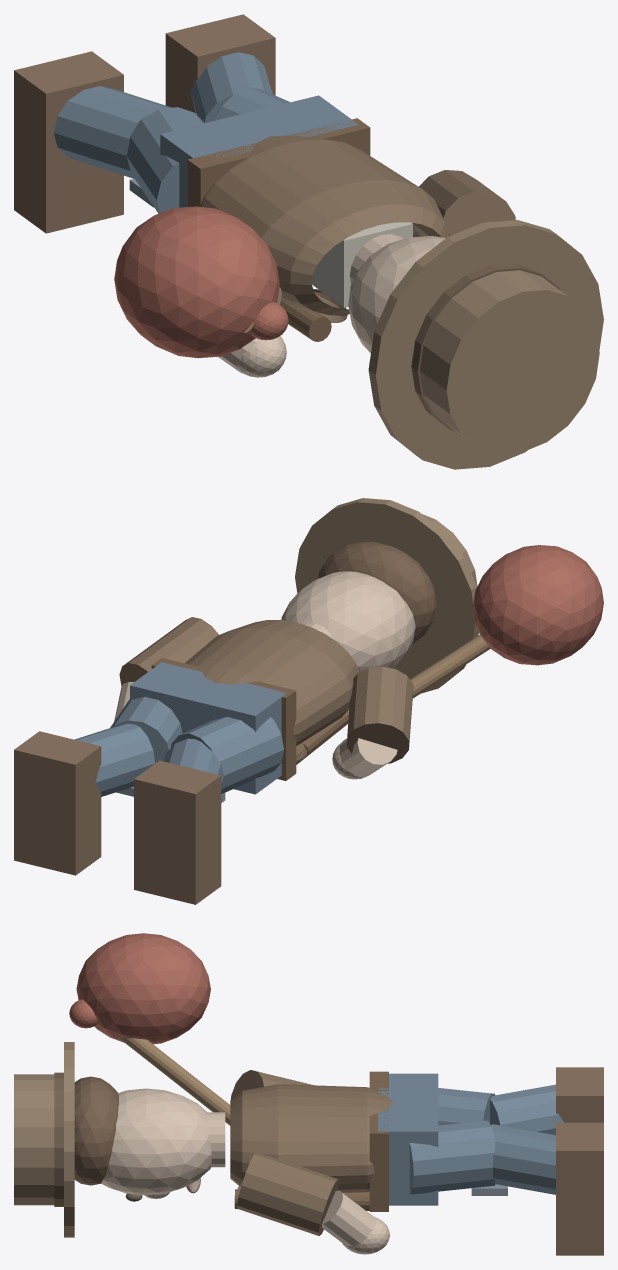
The model's file is George_walk_08.glb.
3 renders of one model, top to bottom at view 1: azimuth 30°, elevation 25°; view 2: azimuth 150°, elevation 25°; view 3: azimuth 270°, elevation 25°, orthographic. The views are drawn at different scales.
Visible parts, largest first — view 1: hat_crown, worn_cream_work_shirt, tied_cloth_bindle, weathered_felt_hat_brim, work_boot_-1, faded_blue_denim_waist, denim_calf_-1, work_boot_1, fair_skin_face, denim_thigh_-1, rolled_shirt_sleeve_1, brown_leather_belt (+7 smaller); view 2: tied_cloth_bindle, weathered_felt_hat_brim, work_boot_-1, work_boot_1, worn_cream_work_shirt, fair_skin_face, faded_blue_denim_waist, rolled_shirt_sleeve_-1, short_brown_hair, denim_thigh_-1, denim_calf_1, rolled_shirt_sleeve_1 (+6 smaller); view 3: worn_cream_work_shirt, tied_cloth_bindle, fair_skin_face, work_boot_1, faded_blue_denim_waist, rolled_shirt_sleeve_1, hat_crown, denim_thigh_1, short_brown_hair, denim_calf_1, denim_calf_-1, work_boot_-1 (+10 smaller).
Part boxes in pixels (x1,y1,x2,y2): hat_crown: (419,270,599,453); worn_cream_work_shirt: (200,135,450,322); tied_cloth_bindle: (114,206,279,358); weathered_felt_hat_brim: (368,220,603,469); work_boot_-1: (14,51,123,233); faded_blue_denim_waist: (160,95,358,207); denim_calf_-1: (54,86,171,178); work_boot_1: (165,14,275,113); fair_skin_face: (348,236,445,353); denim_thigh_-1: (126,107,204,213); rolled_shirt_sleeve_1: (412,170,515,237); brown_leather_belt: (187,118,370,206); tied_cloth_bindle: (472,545,603,665); weathered_felt_hat_brim: (295,498,478,693); work_boot_-1: (134,760,221,904); work_boot_1: (14,731,101,875); worn_cream_work_shirt: (185,620,358,760); fair_skin_face: (281,571,415,672); faded_blue_denim_waist: (130,662,286,794); rolled_shirt_sleeve_-1: (347,666,413,763); short_brown_hair: (318,541,436,643); denim_thigh_-1: (171,717,283,793); denim_calf_1: (75,723,155,796); rolled_shirt_sleeve_1: (119,617,218,685); worn_cream_work_shirt: (230,1084,393,1203); tied_cloth_bindle: (76,933,210,1044); fair_skin_face: (101,1088,211,1195); work_boot_1: (556,1122,603,1255); faded_blue_denim_waist: (378,1073,438,1205); rolled_shirt_sleeve_1: (237,1152,338,1235); hat_crown: (14,1074,54,1205); denim_thigh_1: (409,1120,495,1194); short_brown_hair: (74,1076,118,1185); denim_calf_1: (491,1124,555,1194); denim_calf_-1: (490,1084,563,1134); work_boot_-1: (556,1067,603,1122).
Size of the model in its own units: 1.72 by 0.93 by 2.46.
